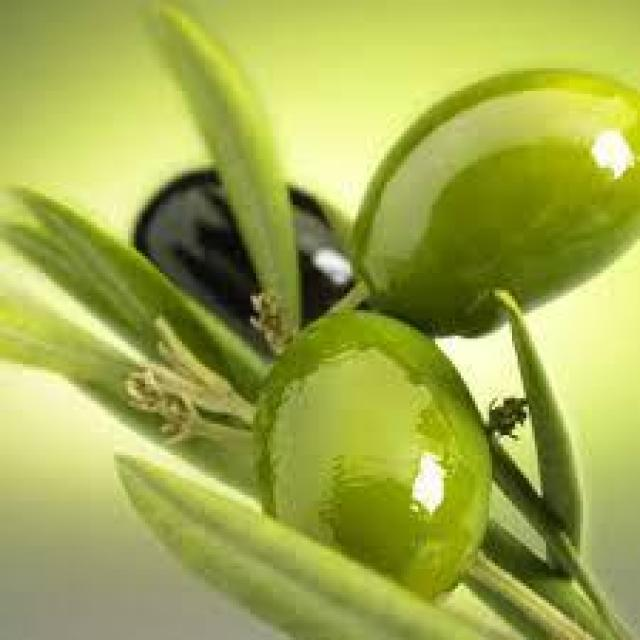Healthy: (353, 68, 637, 336), (256, 296, 489, 600)
